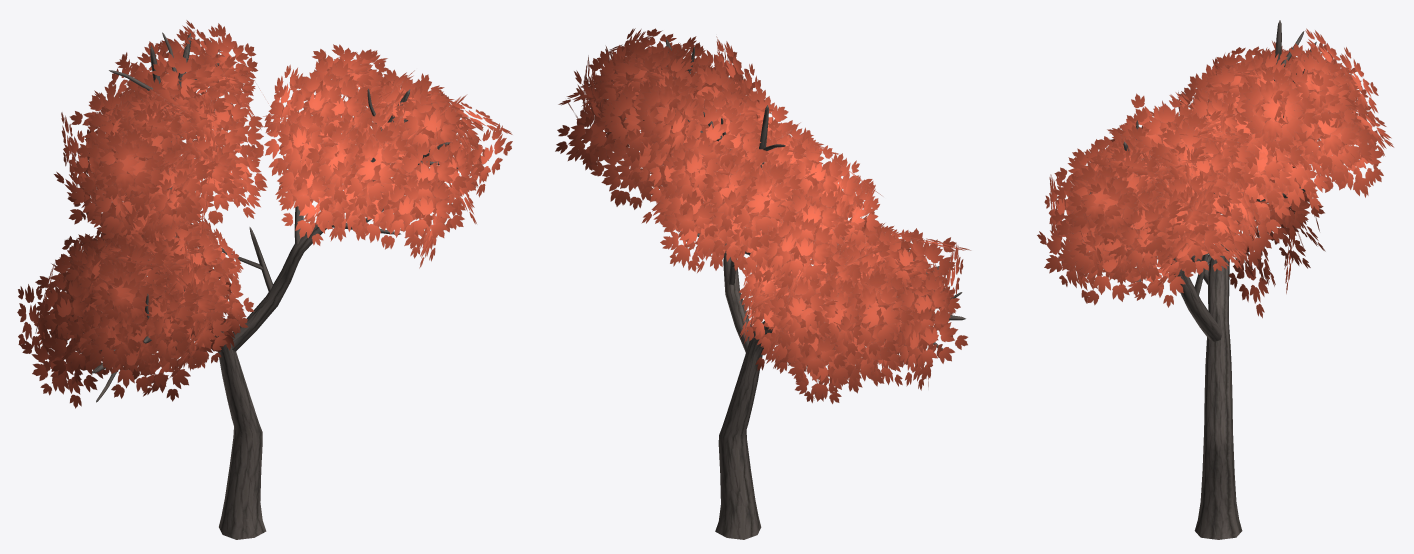
File: tejocote.glb
The picture shows the model from 3 angles, left to right: view 1: azimuth 30°, elevation 25°; view 2: azimuth 150°, elevation 25°; view 3: azimuth 270°, elevation 25°; orthographic projection. The views are drawn at different scales.
Visible parts, largest first — view 1: tejocote; view 2: tejocote; view 3: tejocote.
Boxes of the visible parts, left/top/right/bottom form: tejocote: left=17, top=20, right=512, bottom=539; tejocote: left=555, top=28, right=970, bottom=539; tejocote: left=1037, top=20, right=1394, bottom=539.
Bounding box in the file's own units: 8.67 × 9 × 6.28.
2 materials, 2 textured.
